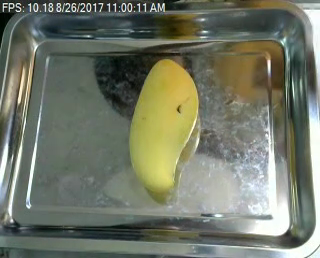Mango: (127, 51, 203, 198)
